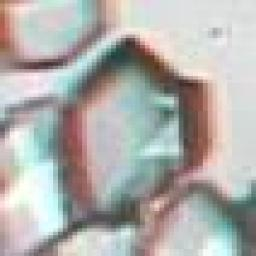crystals: (57, 31, 211, 227)
